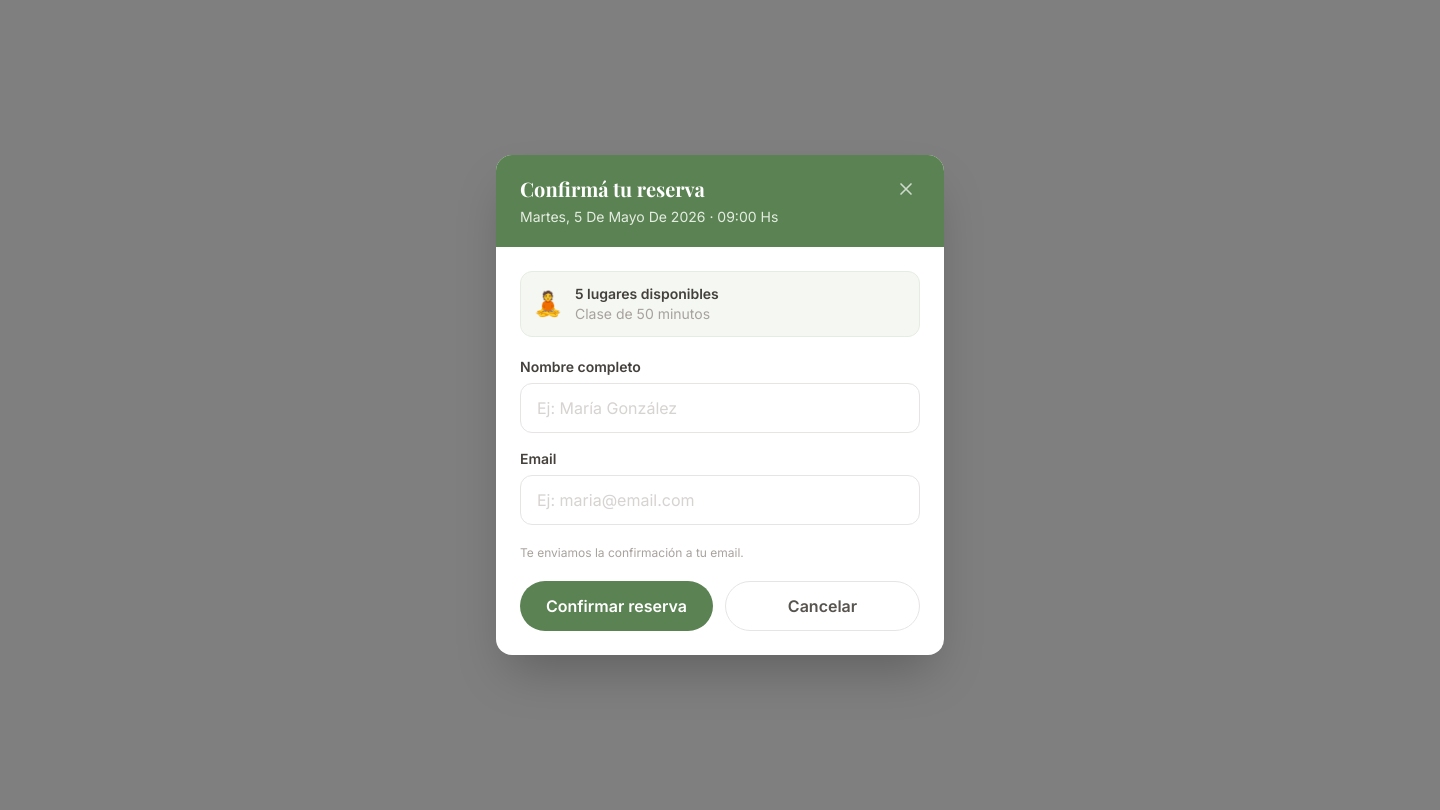
Test case: ReservationModal — successful submission › submits form and shows success state on mock POST success
In the field labelled "Nombre completo": (720, 408) [520, 383, 920, 433], type "Ana García"
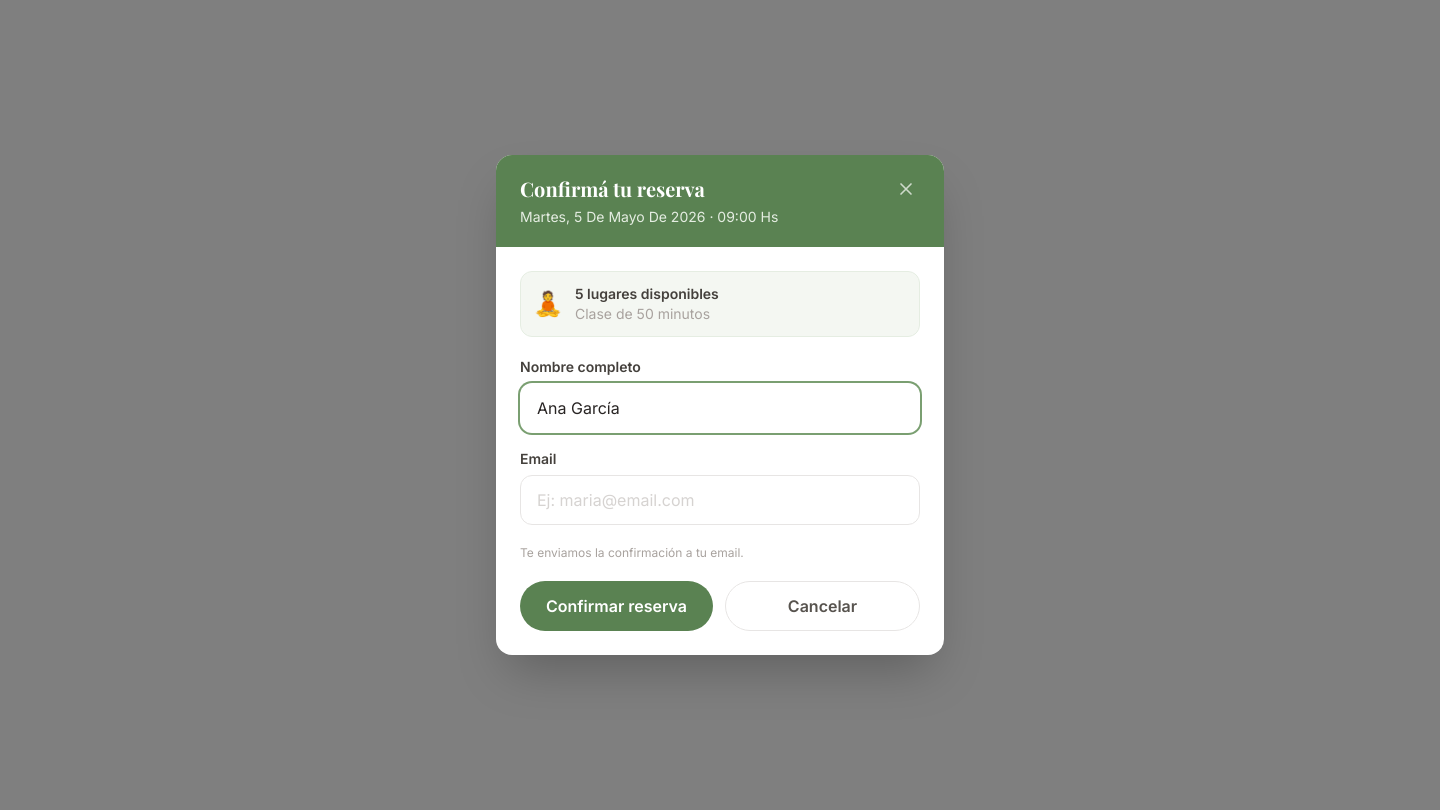
In the field labelled "Email": (720, 500) [520, 475, 920, 525], type "ana@example.com"
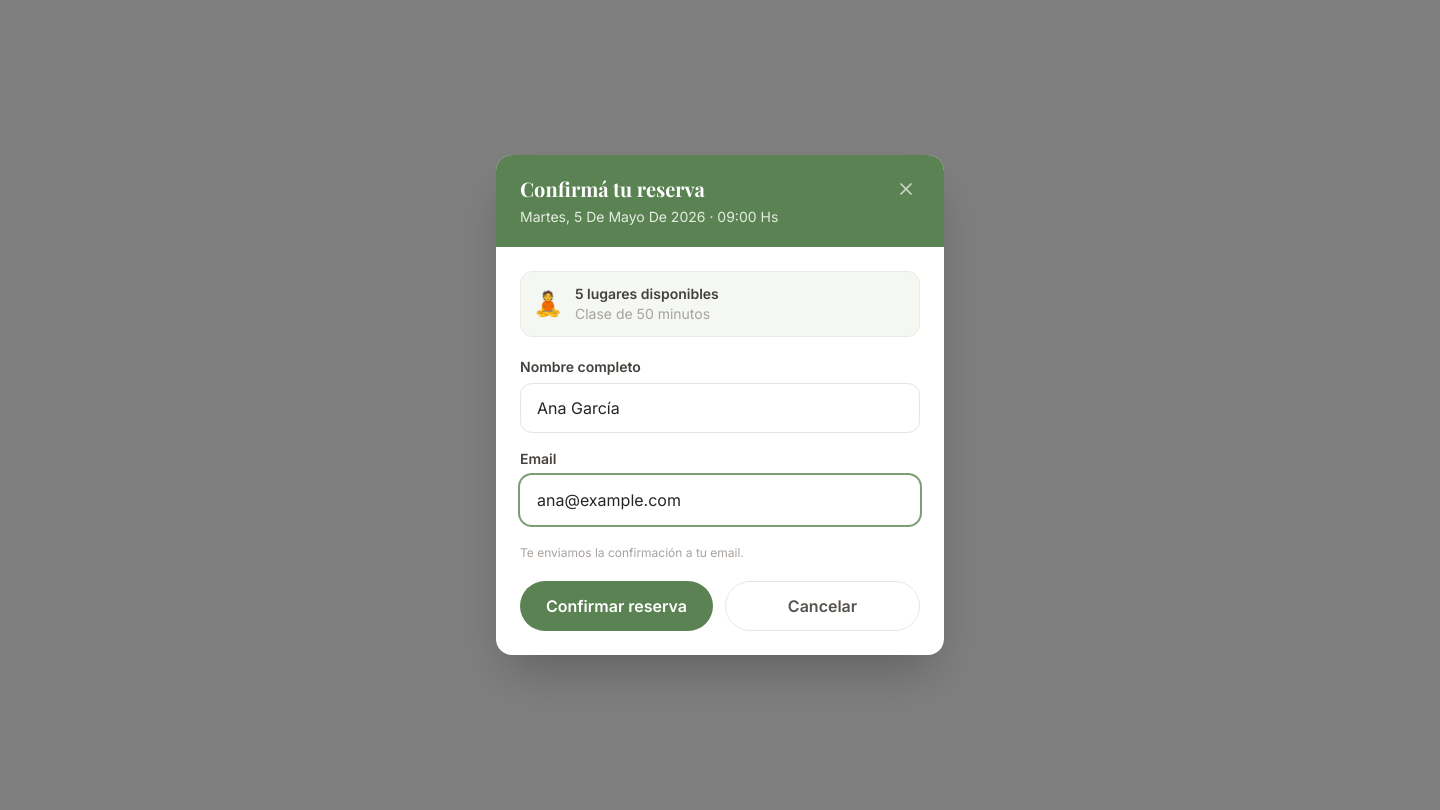
Click the button "Confirmar reserva": (616, 606) [520, 581, 713, 631]
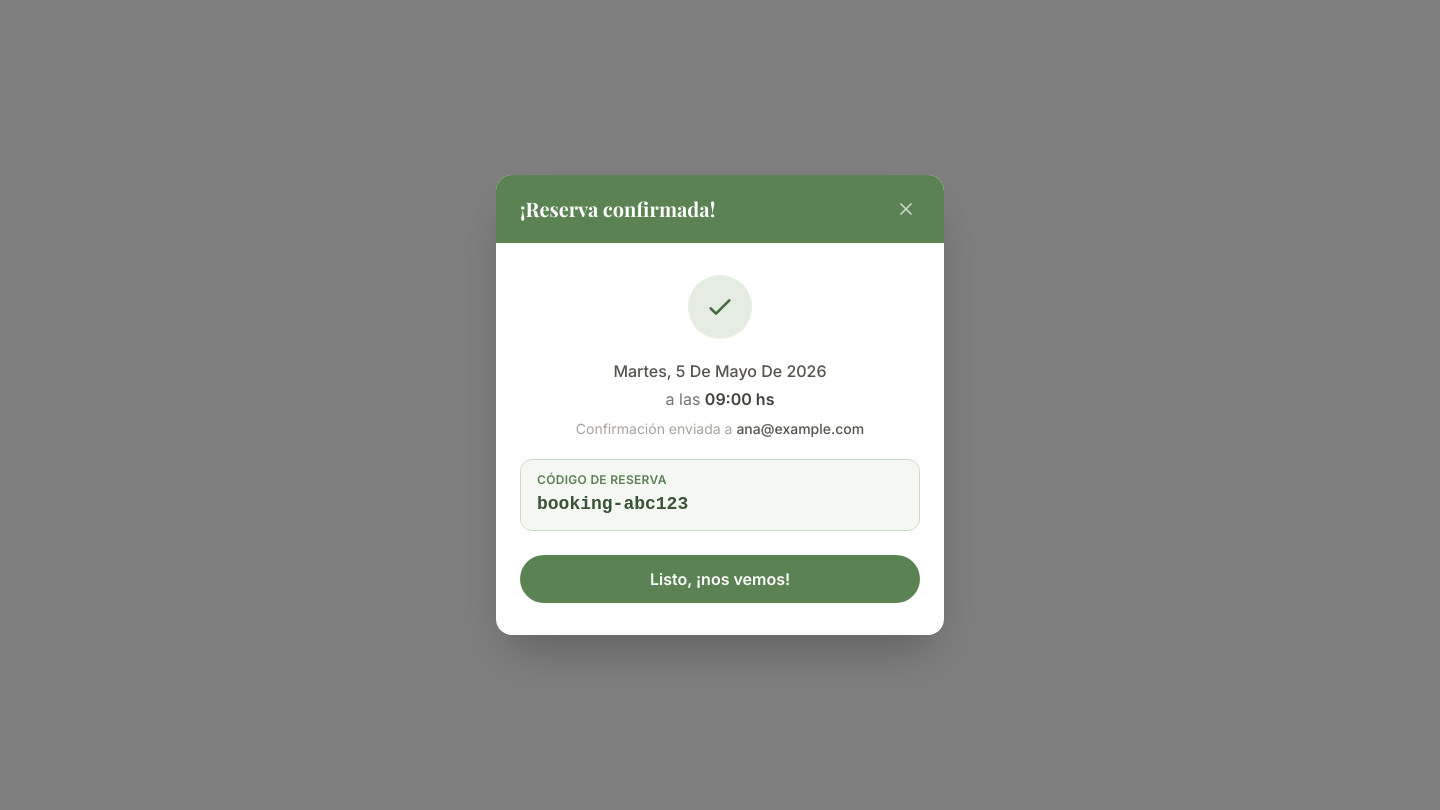
Expected: the message with test id "success-message" is shown, [520, 267, 920, 611]
